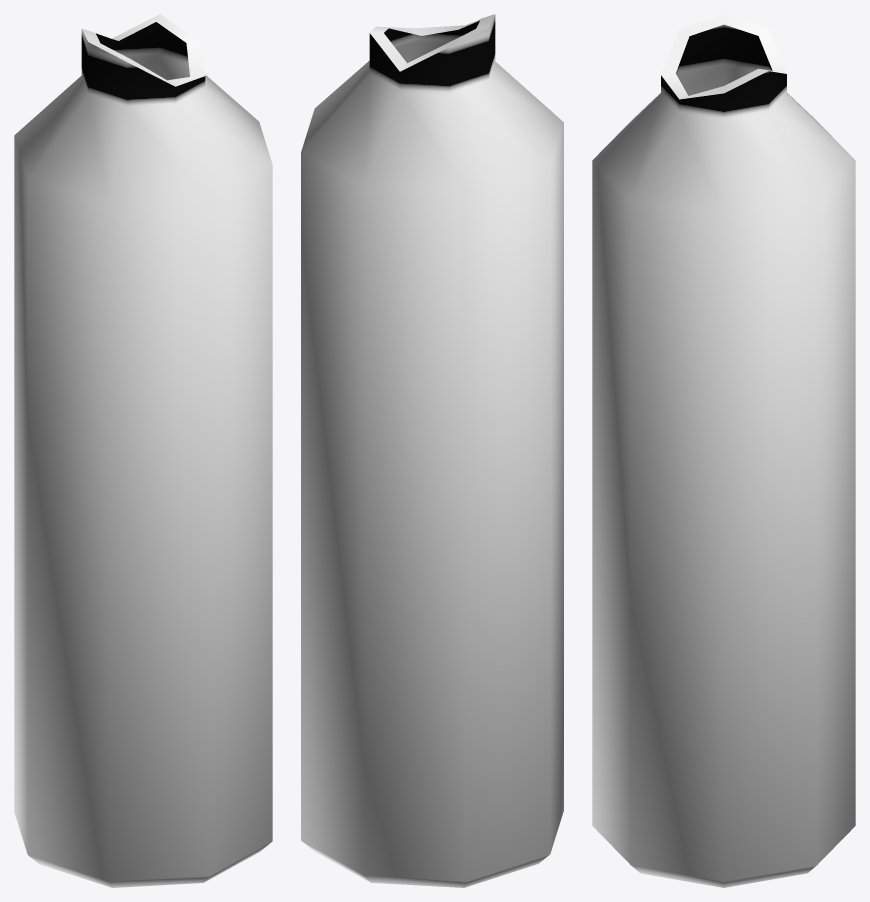
Rendered from ampouleBroken.fbx.
3 views of the same model, side by side, from view 1: azimuth 30°, elevation 25°; view 2: azimuth 150°, elevation 25°; view 3: azimuth 270°, elevation 25° (orthographic). The views are drawn at different scales.
Visible parts, largest first — view 1: ampouleBroken; view 2: ampouleBroken; view 3: ampouleBroken.
Boxes of the visible parts, x1,y1,x2,y2 form: ampouleBroken: (14, 14, 272, 887); ampouleBroken: (301, 14, 563, 887); ampouleBroken: (592, 14, 855, 887).
Size of the model in its own units: 0.164 by 0.5487 by 0.164.
